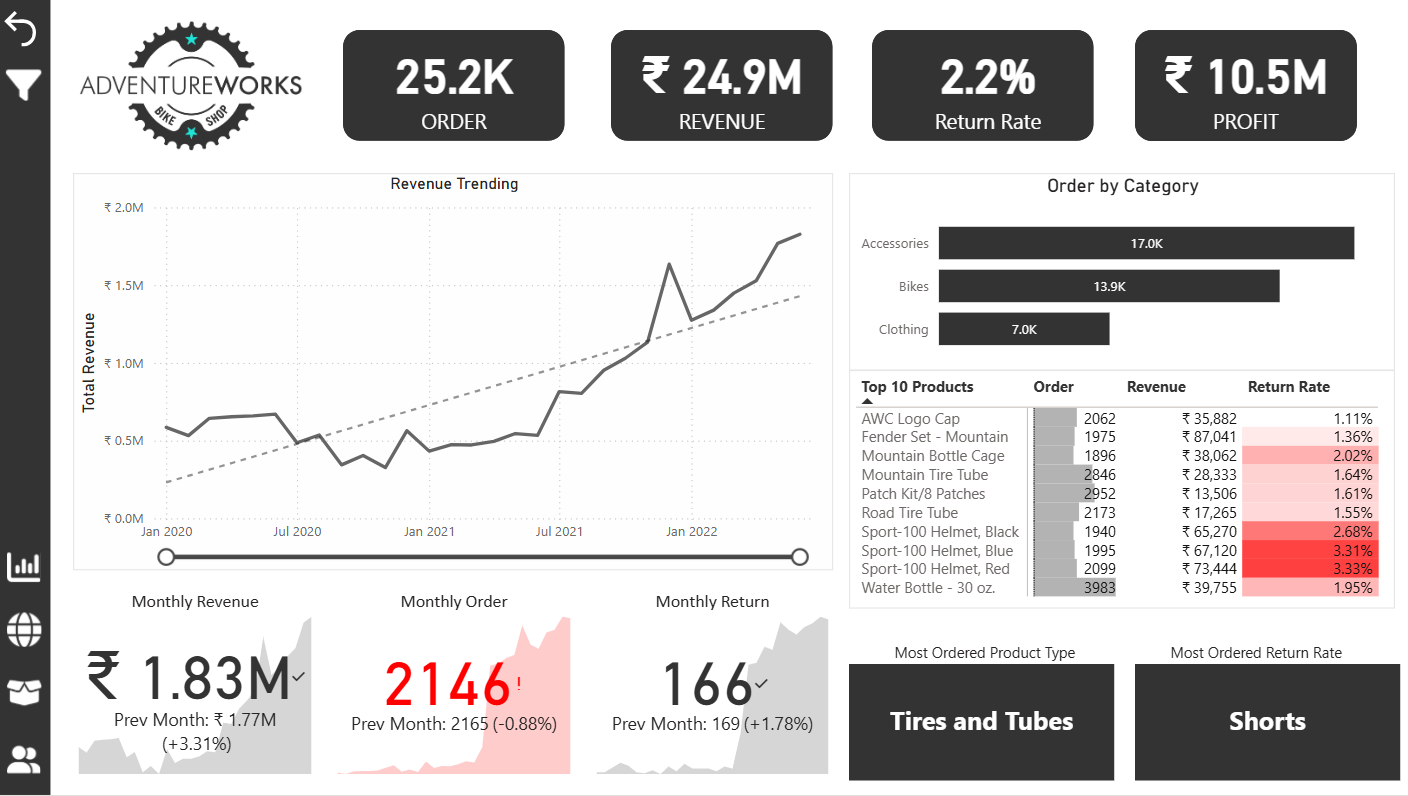

What the dashboard file says about the page in this screenshot:
{"tool":"powerbi","page":{"name":"Executive Dashboard","canvas":[1280,720],"ordinal":0},"visuals":[{"type":"image","title":"Adventure Works","box":[48.1,0,254.8,162.1],"z":0},{"type":"card","fields":{"Values":["Measure Table.Total Revenue"]},"box":[572.3,17.7,162.1,124.5],"z":0,"group":"g2"},{"type":"group","id":"g1","title":"KPI Backgrounds","box":[311.6,29.9,914,100],"z":0,"group":"g3"},{"type":"shape","box":[311.6,29.9,199.6,99.8],"z":0,"group":"g1"},{"type":"actionButton","box":[0,496,48.4,38.3],"z":0,"group":"g4"},{"type":"shape","title":"Left Navigation","box":[0,0,48.1,719.9],"z":1000},{"type":"group","id":"g2","title":"KPIs Values","box":[330.4,17.7,876,124.5],"z":1000,"group":"g3"},{"type":"card","fields":{"Values":["Measure Table.Return Rate"]},"box":[811.2,17.7,162.1,124.5],"z":1000,"group":"g2"},{"type":"shape","box":[553.5,29.9,199.6,99.8],"z":1000,"group":"g1"},{"type":"actionButton","box":[0,551.4,48.4,39.3],"z":1000,"group":"g4"},{"type":"group","id":"g3","title":"KPIs","box":[311.6,17.7,914,124.5],"z":2000},{"type":"card","fields":{"Values":["Measure Table.Total Order"]},"box":[330.4,17.7,162.1,124.5],"z":2000,"group":"g2"},{"type":"shape","box":[788.4,29.9,199.6,99.8],"z":2000,"group":"g1"},{"type":"actionButton","box":[0,608.9,48.4,39.3],"z":2000,"group":"g4"},{"type":"card","fields":{"Values":["Measure Table.Total Profit"]},"box":[1044.4,17.7,162.1,124.5],"z":3000,"group":"g2"},{"type":"shape","box":[1025.6,29.9,200,100],"z":3000,"group":"g1"},{"type":"lineChart","title":"Revenue Trending","fields":{"Y":["Measure Table.Total Revenue"],"Category":["Calendar Lookup.date Hirarchy.Start of Year","Calendar Lookup.date Hirarchy.Start of Month"]},"box":[68.1,159.4,685.1,358.2],"z":3000},{"type":"actionButton","box":[0,669.3,48.2,38.8],"z":3000,"group":"g4"},{"type":"kpi","title":"Monthly Revenue","fields":{"Indicator":["Measure Table.Total Revenue"],"TrendLine":["Calendar Lookup.date Hirarchy.Start of Month"],"Goal":["Measure Table.previous month revenue"]},"box":[68.2,535.5,220,170.9],"z":4000},{"type":"kpi","title":"Monthly Order","fields":{"TrendLine":["Calendar Lookup.date Hirarchy.Start of Month"],"Indicator":["Measure Table.Total Order"],"Goal":["Measure Table.previous month orders"]},"box":[301.8,535.5,220,170.9],"z":5000},{"type":"kpi","title":"Monthly Return","fields":{"TrendLine":["Calendar Lookup.date Hirarchy.Start of Month"],"Indicator":["Measure Table.Total Returns"],"Goal":["Measure Table.previous month Returns"]},"box":[535.5,535.5,219.1,170.9],"z":6000},{"type":"clusteredBarChart","title":"Order by Category","fields":{"Y":["Measure Table.Total Order"],"Category":["Product Categories Lookup.CategoryName"]},"box":[768.2,159.1,491.8,178.2],"z":7000},{"type":"pivotTable","fields":{"Rows":["Product Lookup.ProductName"],"Values":["Measure Table.Total Order","Measure Table.Total Revenue","Measure Table.Return Rate"]},"box":[768.2,337.3,491.8,214.5],"z":8000},{"type":"card","fields":{"Values":["Min(Product Subcategories Lookup.SubcategoryName)"]},"box":[768.2,601.8,239.1,104.5],"z":9000},{"type":"textbox","box":[803.6,577.3,184.5,31.8],"z":10000},{"type":"card","fields":{"Values":["Min(Product Subcategories Lookup.SubcategoryName)"]},"box":[1025.5,601.8,239.1,104.5],"z":11000},{"type":"textbox","box":[1052.7,577.3,184.5,31.8],"z":12000},{"type":"actionButton","box":[0,8.2,48.2,42.3],"z":13000},{"type":"group","id":"g4","title":"Navigartion Buttons","box":[0,496,48.2,211.6],"z":14000},{"type":"actionButton","box":[0,59.9,48.2,40],"z":15000}]}

Visuals, with their boxes on the page's 1280x720 design canvas (x1, y1, x2, y2). These are canvas units, not pixel positions in the 1408x796 screenshot, which may show the page scaled, cropped or inside an application window:
"Adventure Works" image: box=[48, 0, 303, 162]
card - Measure Table.Total Revenue: box=[572, 18, 734, 142]
"KPI Backgrounds" group: box=[312, 30, 1226, 130]
shape: box=[312, 30, 511, 130]
actionButton: box=[0, 496, 48, 534]
"Left Navigation" shape: box=[0, 0, 48, 720]
"KPIs Values" group: box=[330, 18, 1206, 142]
card - Measure Table.Return Rate: box=[811, 18, 973, 142]
shape: box=[554, 30, 753, 130]
actionButton: box=[0, 551, 48, 591]
"KPIs" group: box=[312, 18, 1226, 142]
card - Measure Table.Total Order: box=[330, 18, 492, 142]
shape: box=[788, 30, 988, 130]
actionButton: box=[0, 609, 48, 648]
card - Measure Table.Total Profit: box=[1044, 18, 1206, 142]
shape: box=[1026, 30, 1226, 130]
"Revenue Trending" lineChart: box=[68, 159, 753, 518]
actionButton: box=[0, 669, 48, 708]
"Monthly Revenue" kpi: box=[68, 536, 288, 706]
"Monthly Order" kpi: box=[302, 536, 522, 706]
"Monthly Return" kpi: box=[536, 536, 755, 706]
"Order by Category" clusteredBarChart: box=[768, 159, 1260, 337]
pivotTable - Product Lookup.ProductName x Measure Table.Total Order: box=[768, 337, 1260, 552]
card - Min(Product Subcategories Lookup.SubcategoryName): box=[768, 602, 1007, 706]
textbox: box=[804, 577, 988, 609]
card - Min(Product Subcategories Lookup.SubcategoryName): box=[1026, 602, 1265, 706]
textbox: box=[1053, 577, 1237, 609]
actionButton: box=[0, 8, 48, 50]
"Navigartion Buttons" group: box=[0, 496, 48, 708]
actionButton: box=[0, 60, 48, 100]
